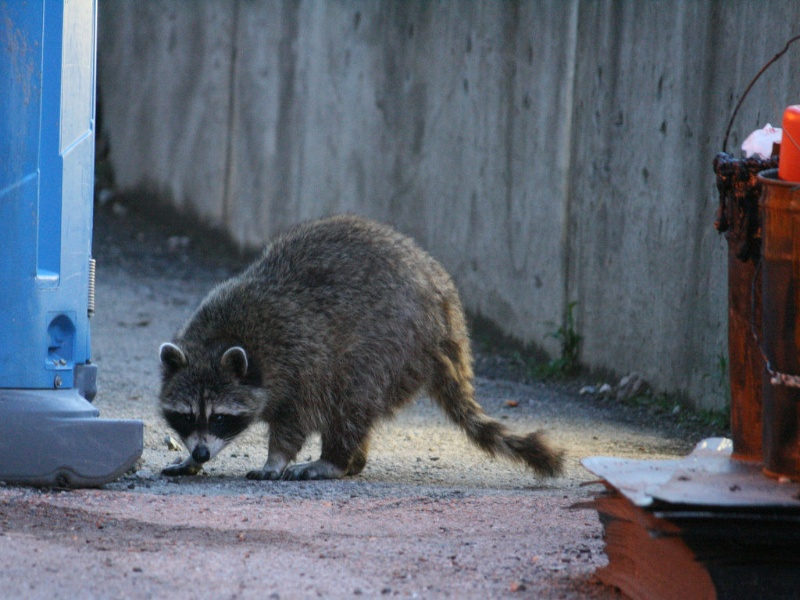raccoon: (148, 209, 567, 488)
